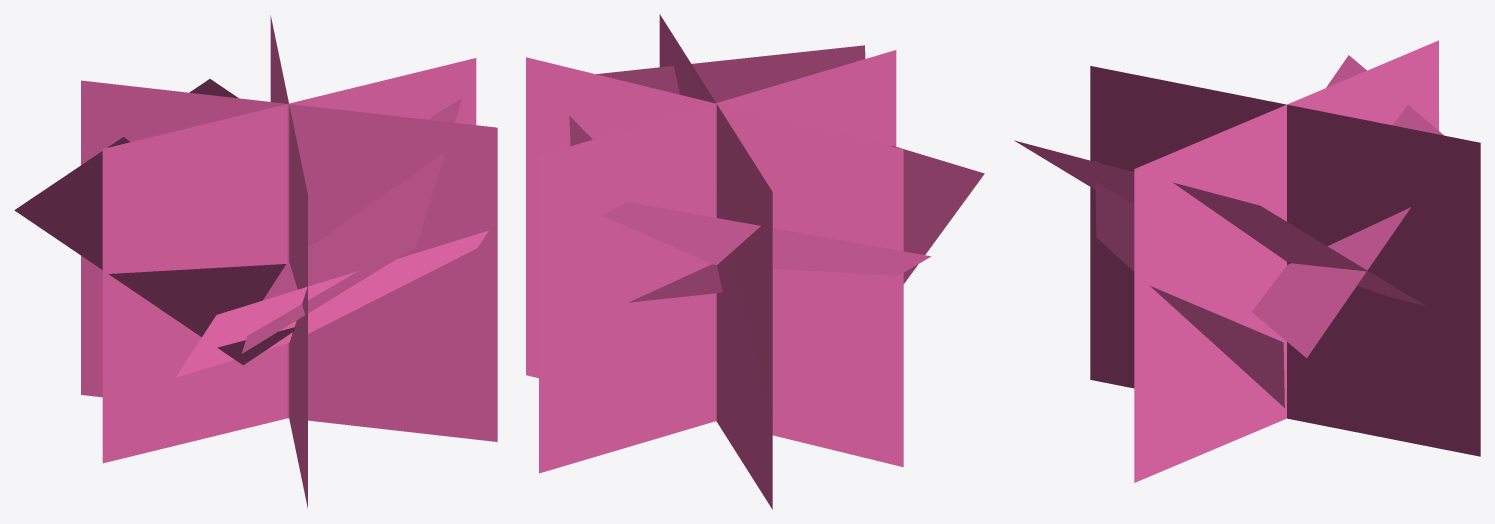
File: cotl_bush_2.FBX
3 renders of one model, left to right at view 1: azimuth 30°, elevation 25°; view 2: azimuth 150°, elevation 25°; view 3: azimuth 270°, elevation 25°, orthographic.
Visible parts, largest first — view 1: cotf_bush_2; view 2: cotf_bush_2; view 3: cotf_bush_2.
Boxes of the visible parts, x1=… form: cotf_bush_2: x1=14, y1=15, x2=497, y2=508; cotf_bush_2: x1=526, y1=14, x2=984, y2=509; cotf_bush_2: x1=1014, y1=40, x2=1480, y2=482.
Bounding box in the file's own units: 1.96 × 1.37 × 1.84.
